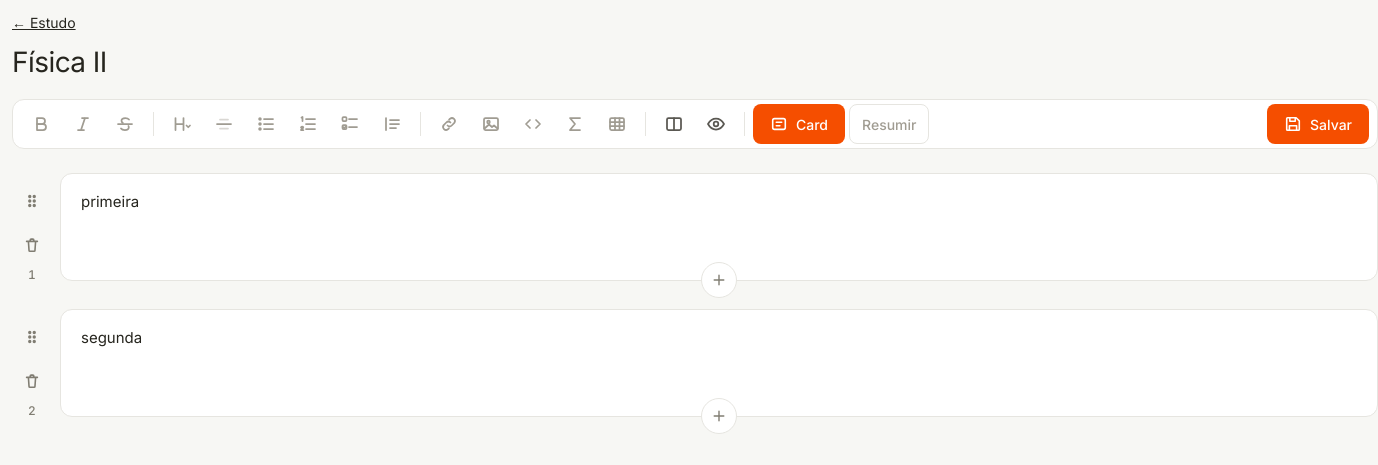
Test: EditorView — salvamento › autosave 2 s depois da edição, com as células atuais e o indicador
The image size is (1378, 465).
Click the text "primeira" at (110, 202), box [81,192,139,211]
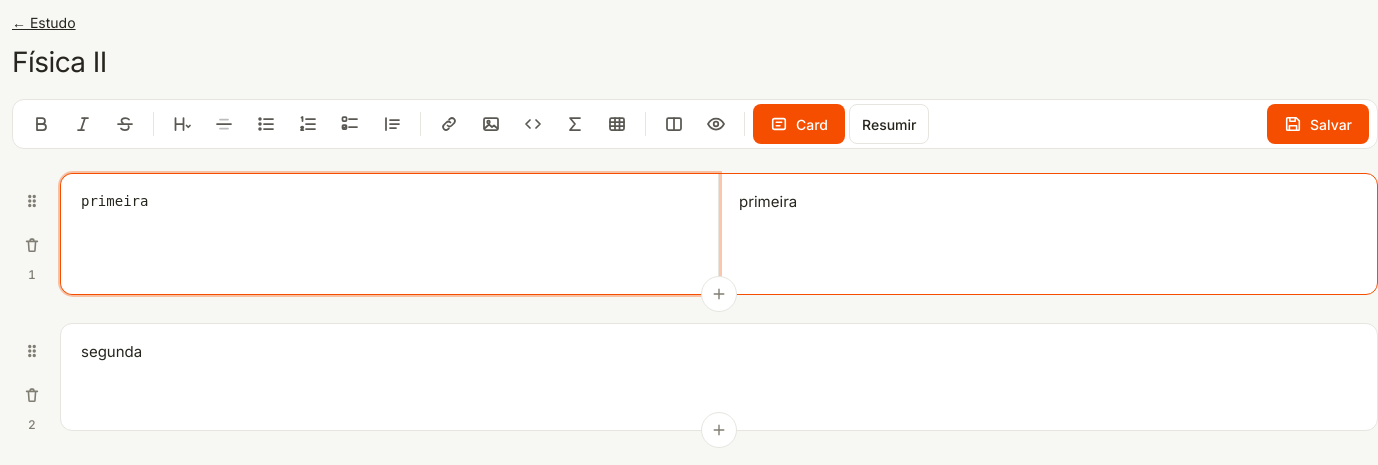
Replace the text in the text box named "Markdown da célula 1" with "primeira editada" at (390, 234), box [61,174,719,294]
Wait 2000 ms
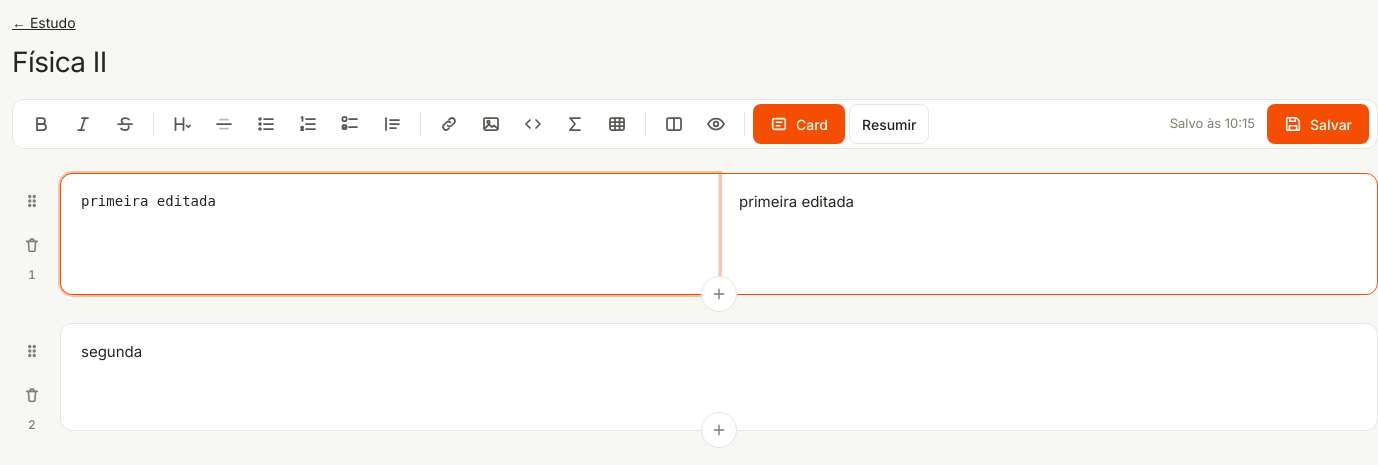
Expected: the text "Salvo às 10:15" is shown, [1170,114,1255,134]
